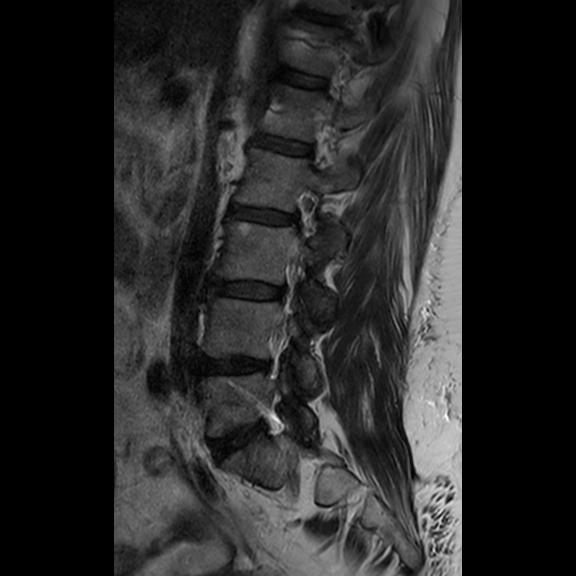RFS0: (289, 178, 332, 249)
